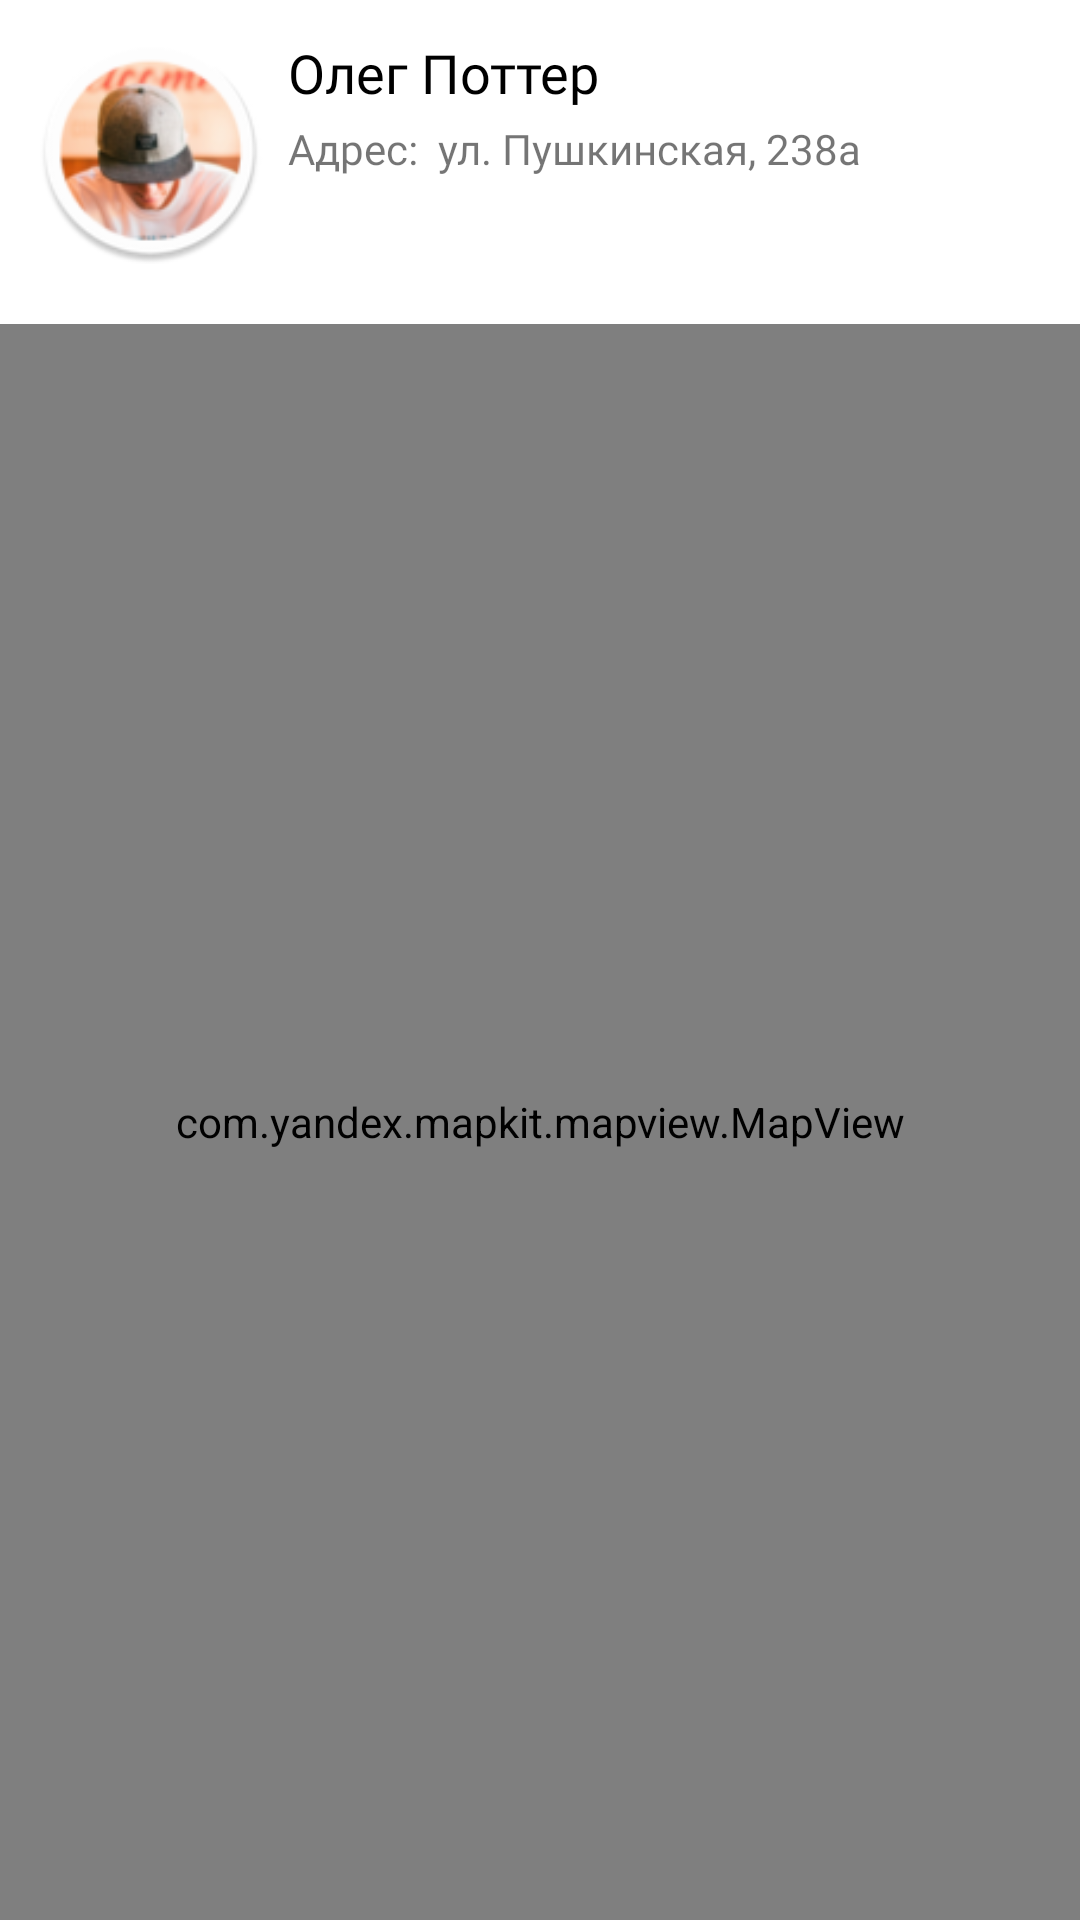

Point at icon controls on the screen. Image size 1080×1920, points as point (x, y).
profile: point (153, 160)
